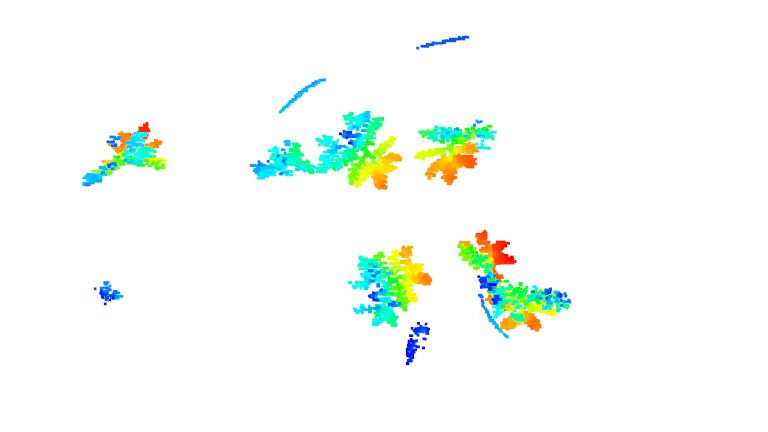chickpea: (347, 240, 432, 329), (315, 109, 405, 193), (80, 120, 168, 190), (411, 117, 500, 185), (479, 278, 573, 336), (453, 227, 518, 279), (250, 138, 319, 181)
